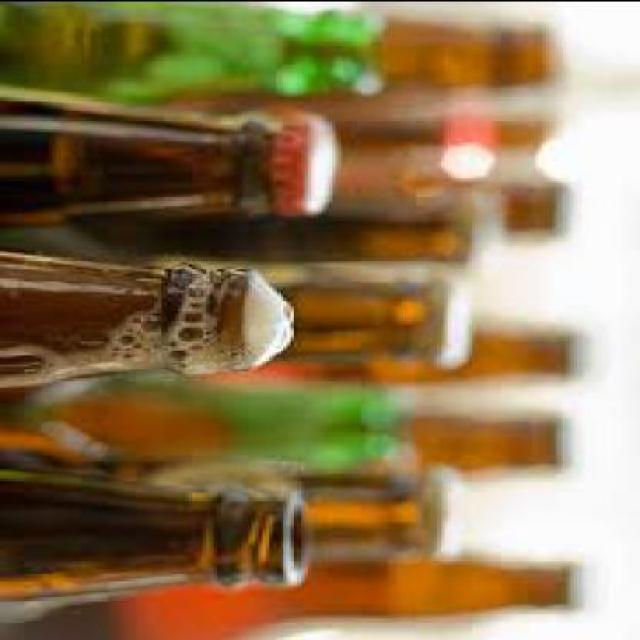GLASS: (1, 560, 578, 638), (3, 461, 308, 601), (4, 379, 413, 478), (4, 2, 391, 102), (3, 260, 277, 388), (3, 106, 283, 226), (3, 202, 486, 264), (266, 268, 472, 368), (329, 86, 496, 179), (375, 9, 559, 91), (304, 463, 444, 563), (380, 323, 578, 385), (405, 412, 570, 477)
METAL: (272, 116, 343, 216), (448, 100, 500, 180)
